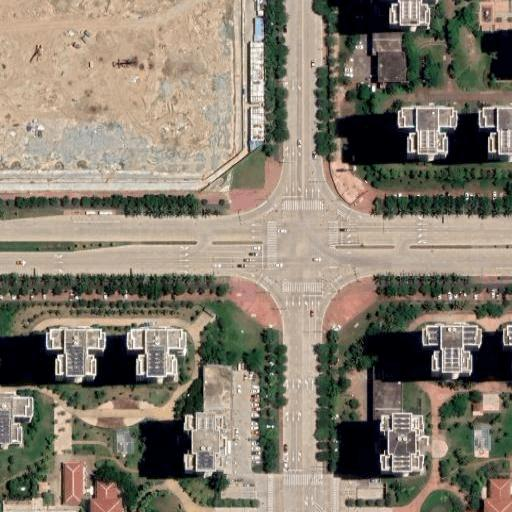building: (241, 5, 264, 147), (421, 324, 482, 373), (125, 328, 187, 376), (398, 106, 458, 155), (45, 328, 106, 376), (181, 414, 226, 473), (379, 415, 424, 474), (458, 478, 512, 512), (477, 106, 512, 157), (371, 364, 403, 416), (203, 364, 232, 415), (90, 478, 123, 512), (390, 0, 430, 25), (62, 463, 84, 505), (377, 52, 405, 83), (1, 499, 49, 512), (373, 32, 403, 52), (501, 323, 512, 373), (472, 399, 483, 414)
